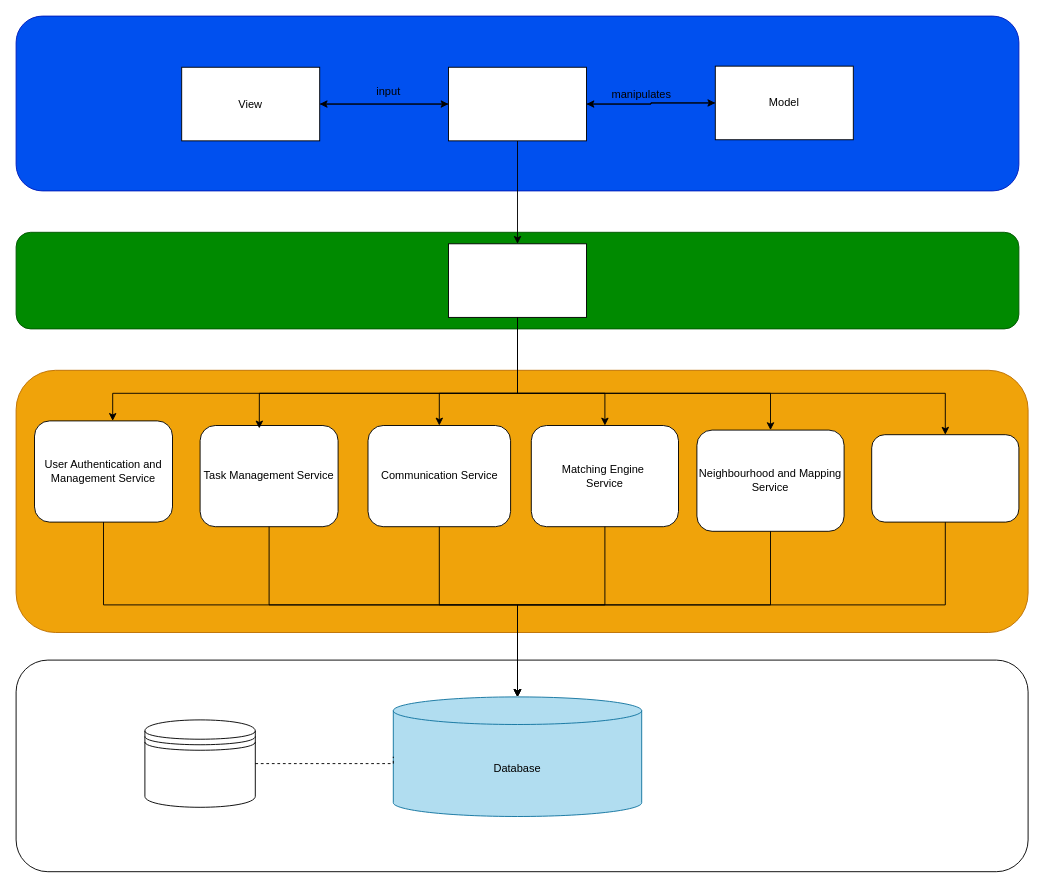
This 1044x888 diagram has some shape labels left out. The box of each missing label's shape, as (x1, y1, x2, y2) in pixels:
Admin and Moderation: (871, 434, 1019, 522)
API Gateway: (448, 243, 586, 317)
Blob Storage: (144, 719, 255, 807)
ViewModel: (448, 66, 586, 141)
